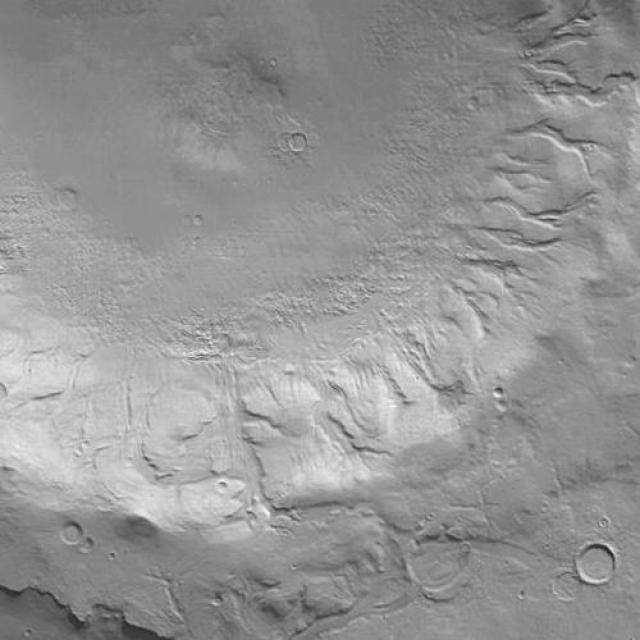crater: (0, 0, 640, 618), (0, 0, 95, 105), (45, 501, 105, 568), (44, 164, 101, 226), (280, 125, 337, 162), (576, 542, 620, 588), (0, 378, 27, 420), (0, 416, 22, 445)
